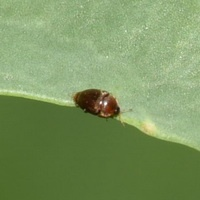insect: (73, 89, 119, 117)
